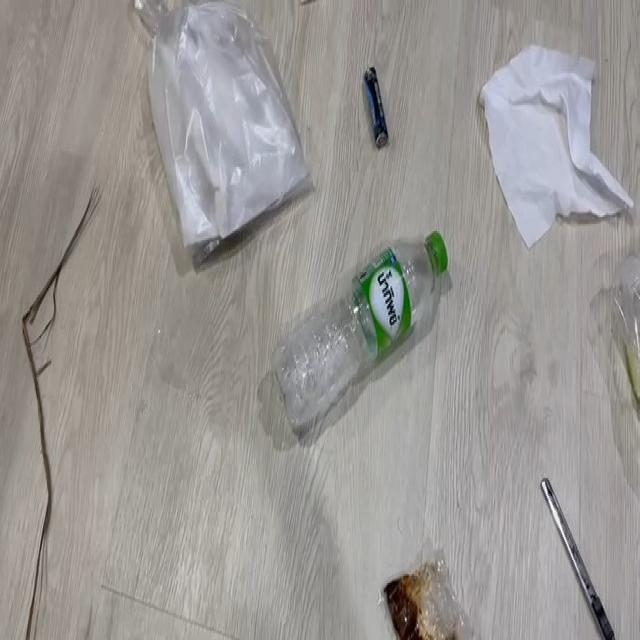Anorganik: (274, 218, 472, 418), (144, 0, 320, 214), (485, 25, 622, 218), (535, 472, 631, 630)
B3: (4, 162, 87, 639), (382, 535, 484, 640), (360, 51, 394, 156)
